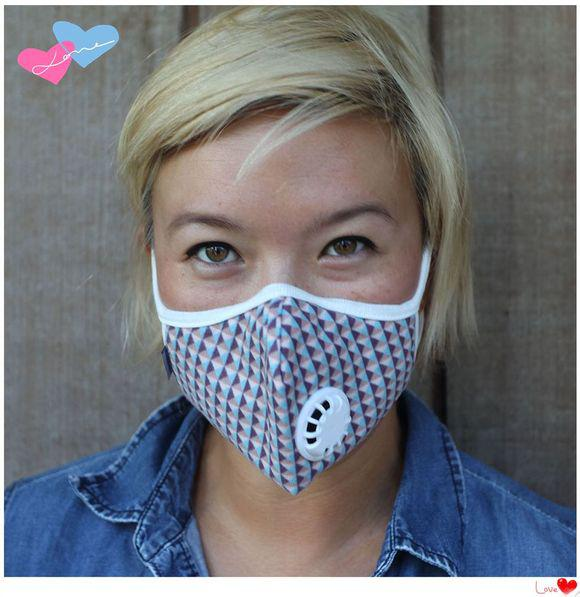OK: (148, 187, 435, 474)
